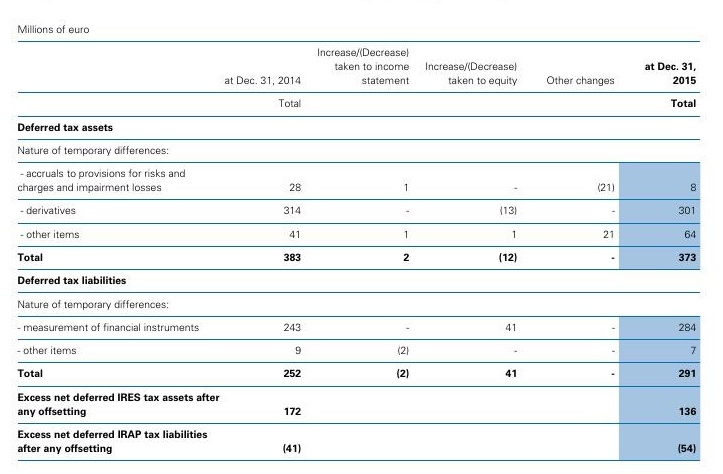table: (0, 0, 723, 474)
